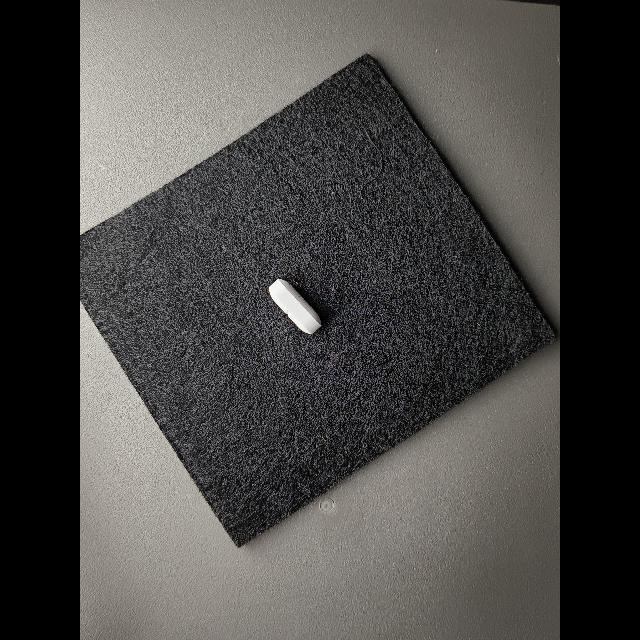Intact Pill: (269, 278, 322, 334)
